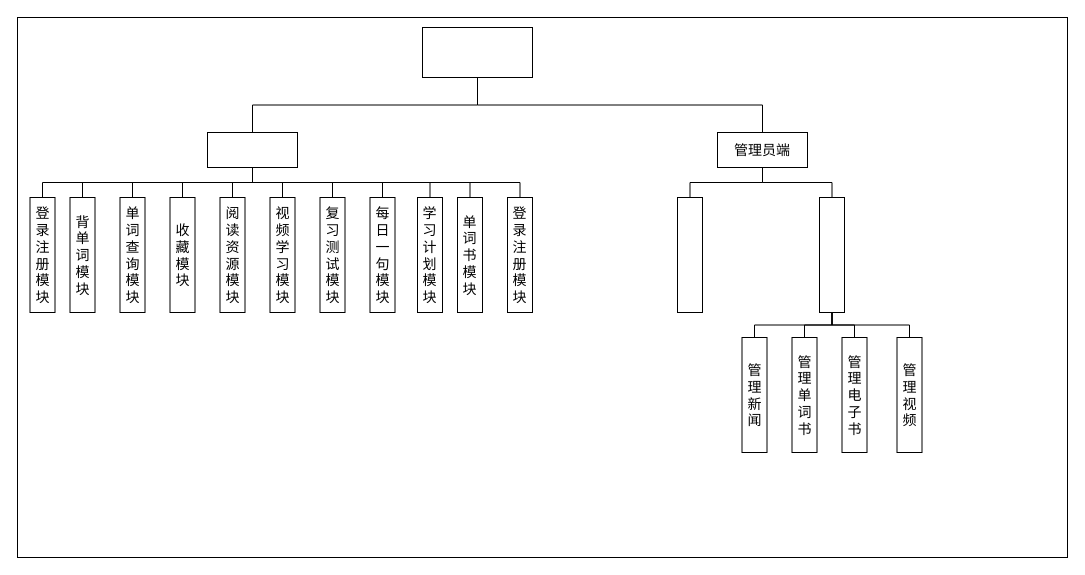
Some shapes in this 1085 by 575 pixel diagram are drawn without their labels. Each missing label, with the centre of its shape:
English Hub系统: the point at 477,52
用户端: the point at 252,150
管理用户: the point at 689,254
管理资源: the point at 831,254
